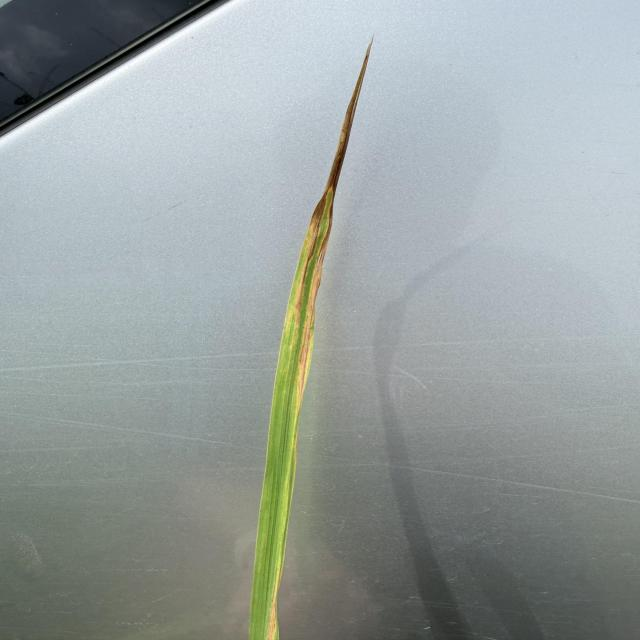Chay bia la: (291, 40, 372, 412)
